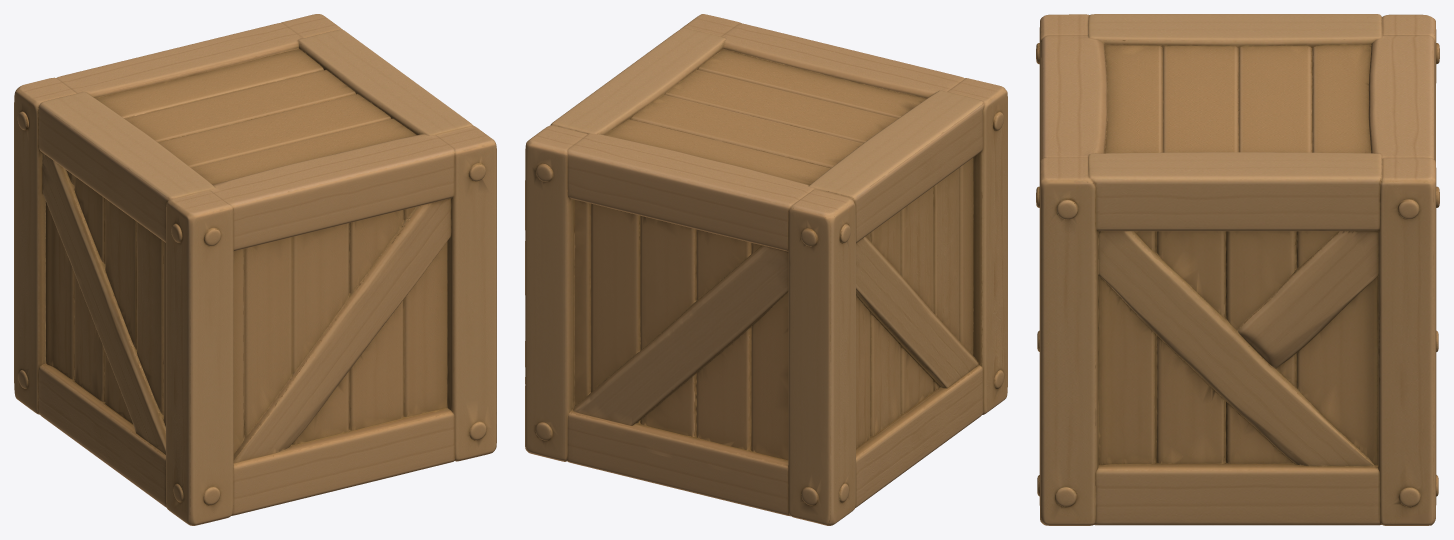
3 renders of one model, left to right at view 1: azimuth 30°, elevation 25°; view 2: azimuth 150°, elevation 25°; view 3: azimuth 270°, elevation 25°, orthographic. The views are drawn at different scales.
Visible parts, largest first — view 1: mesh_node; view 2: mesh_node; view 3: mesh_node.
Part boxes in pixels (box(x1,y1,x2,y2)): mesh_node: box(14, 14, 496, 525); mesh_node: box(525, 14, 1007, 525); mesh_node: box(1036, 14, 1439, 525).
Bounding box in the file's own units: 189 × 180 × 189.
1 material, 1 textured.
